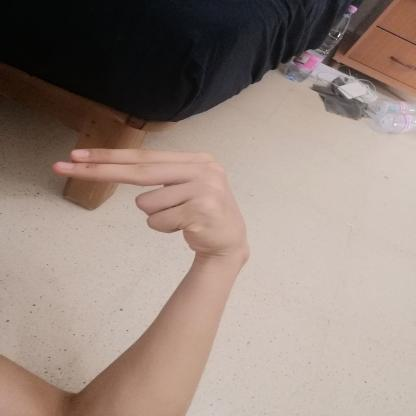AYN: (34, 130, 263, 267)
